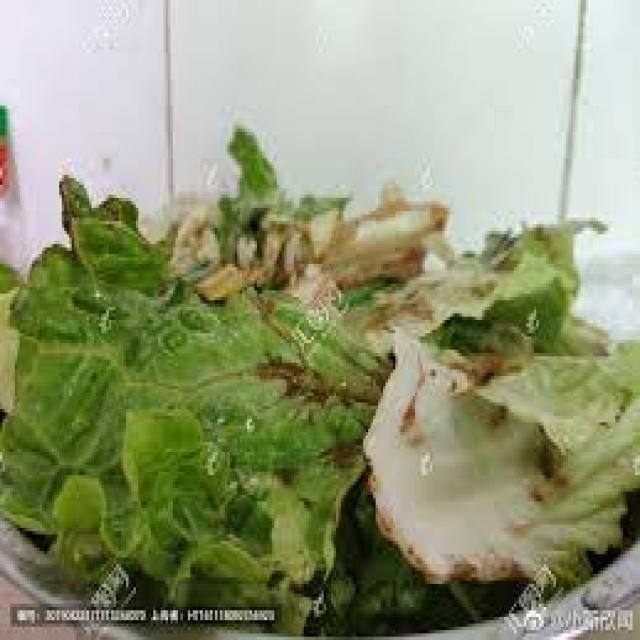food_waste: (0, 125, 638, 630)
